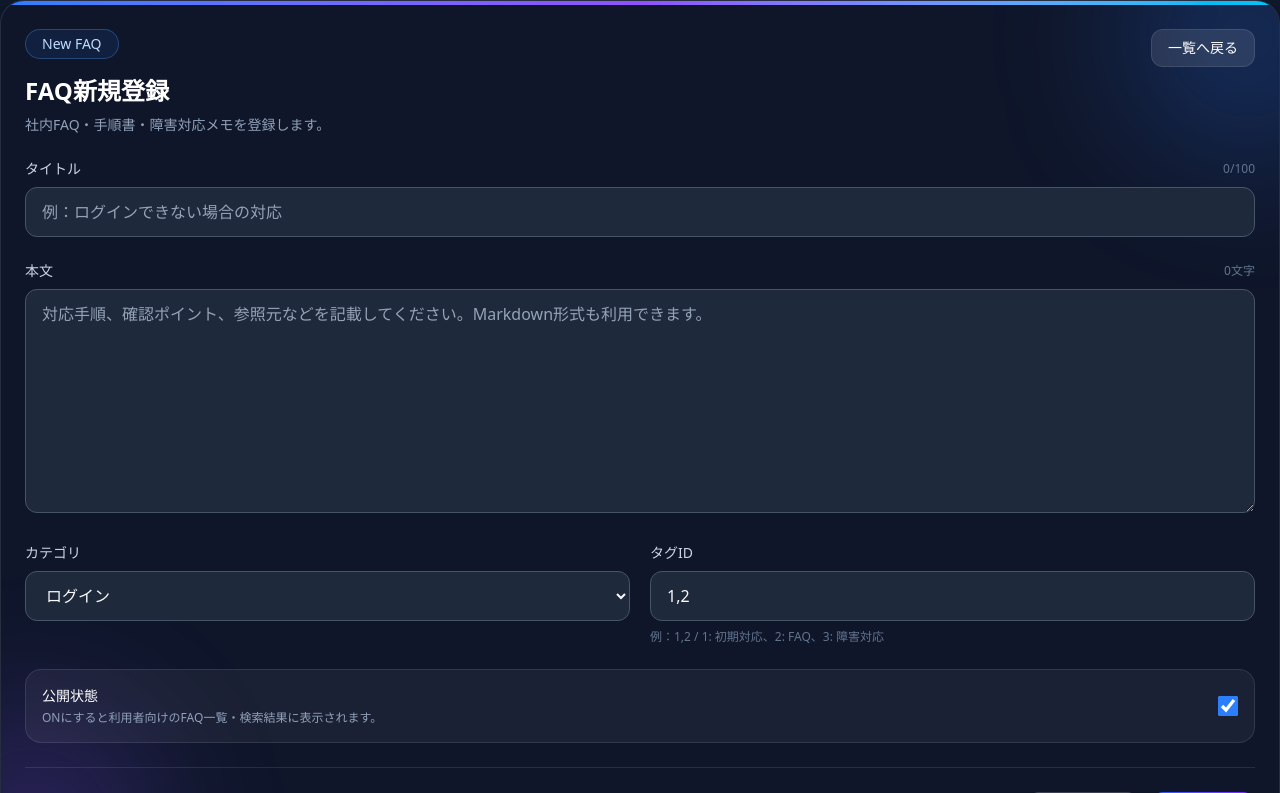
NewFaqPage › FAQ登録に失敗した場合はエラーメッセージを表示する
Type "失敗テスト" into the field with placeholder "例：ログインできない場合の対応" at (640, 212), box [25,187,1255,237]
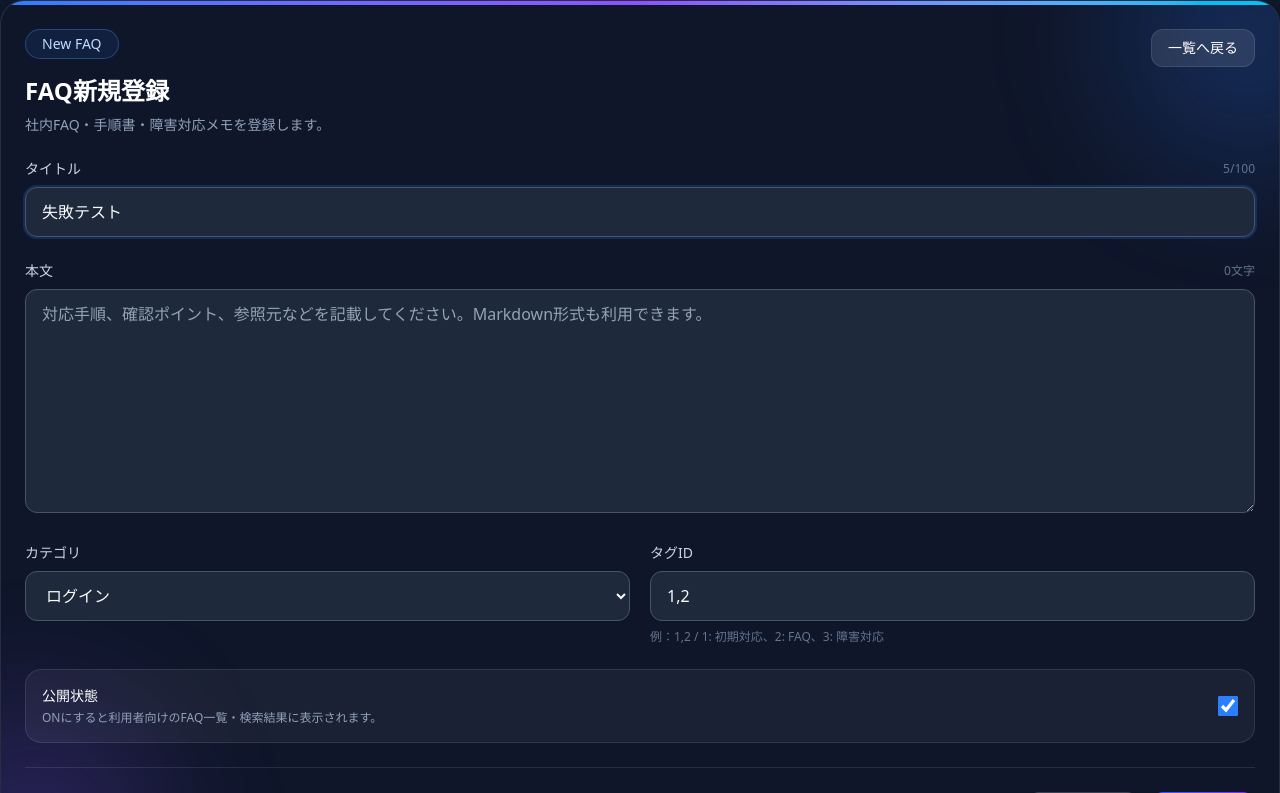
Type "失敗本文" into the text box with placeholder "対応手順、確認ポイント、参照元などを記載してください。Markdown形式も利用できます。" at (640, 401), box [25,289,1255,513]
(page scrolled)
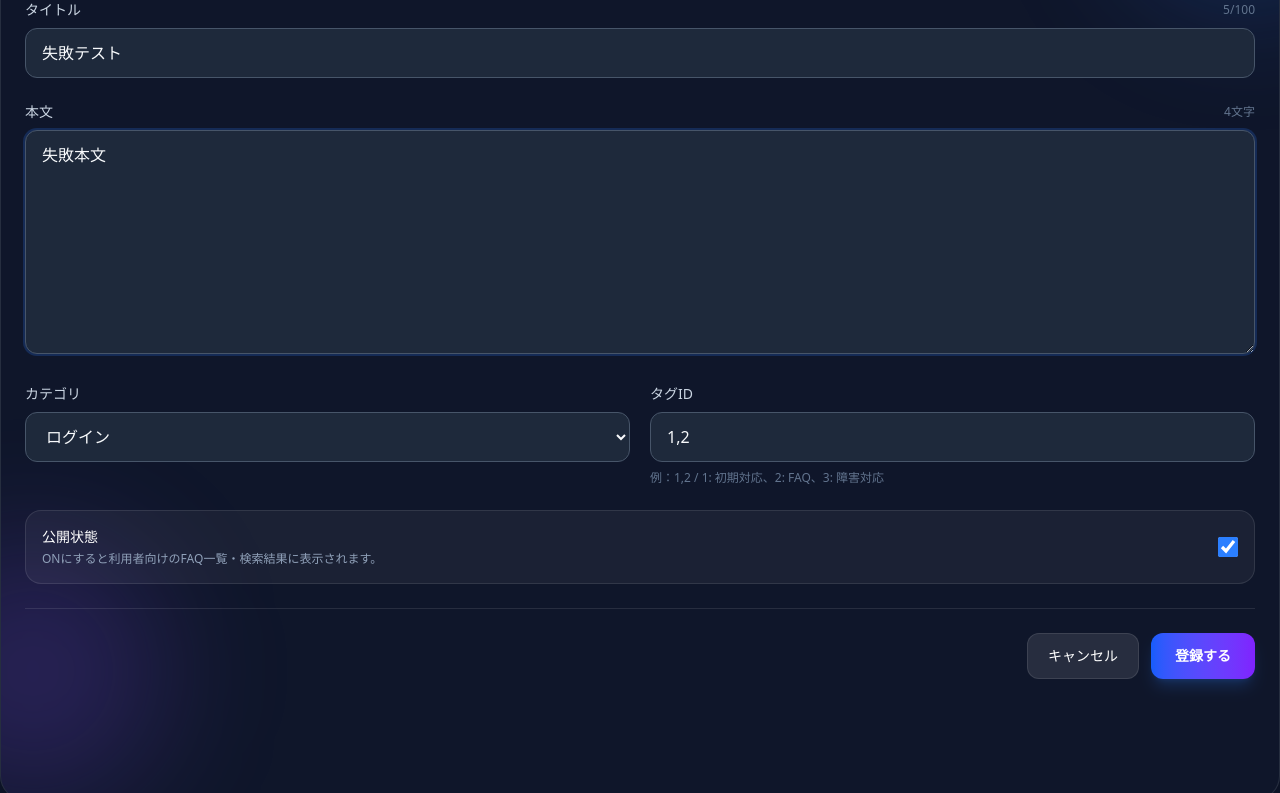
Click the button "登録する" at (1203, 656), box [1151,633,1255,679]
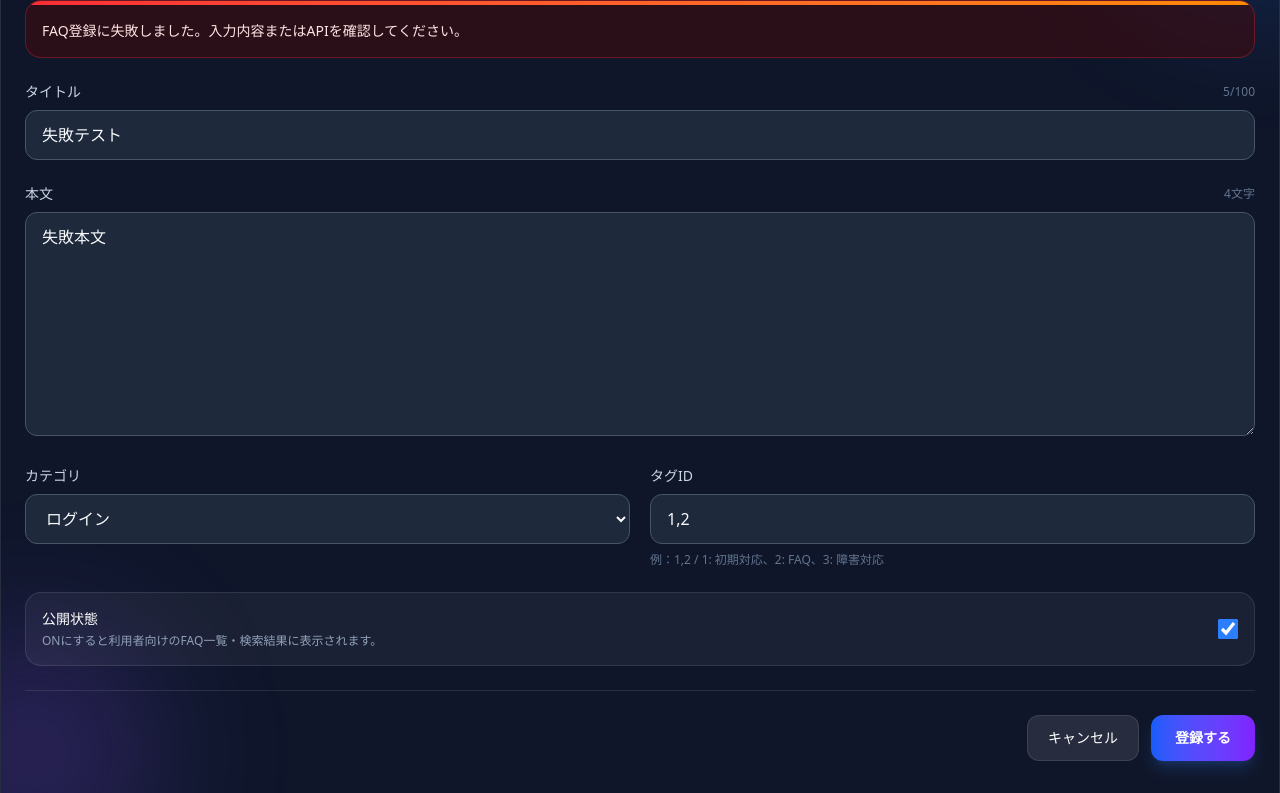
expect the text "FAQ登録に失敗しました。入力内容またはAPIを確認してください。" is shown: met, box [42,21,468,40]
